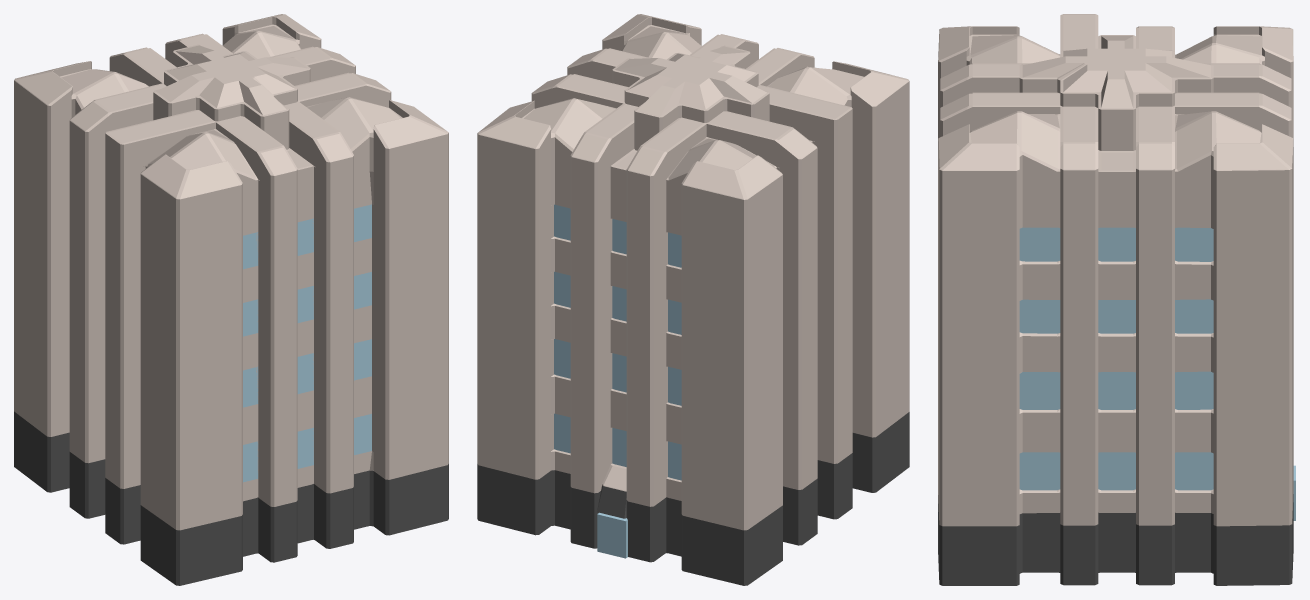
File: Building_011.fbx
3 renders of one model, left to right at view 1: azimuth 30°, elevation 25°; view 2: azimuth 150°, elevation 25°; view 3: azimuth 270°, elevation 25°, orthographic. The views are drawn at different scales.
Parts seen in each view (by area): view 1: Building_011; view 2: Building_011; view 3: Building_011.
Part boxes in pixels (x1,y1,x2,y2): Building_011: (14, 14, 448, 585); Building_011: (477, 14, 909, 585); Building_011: (938, 14, 1295, 585).
Size of the model in its own units: 2924 by 4323 by 3080.
